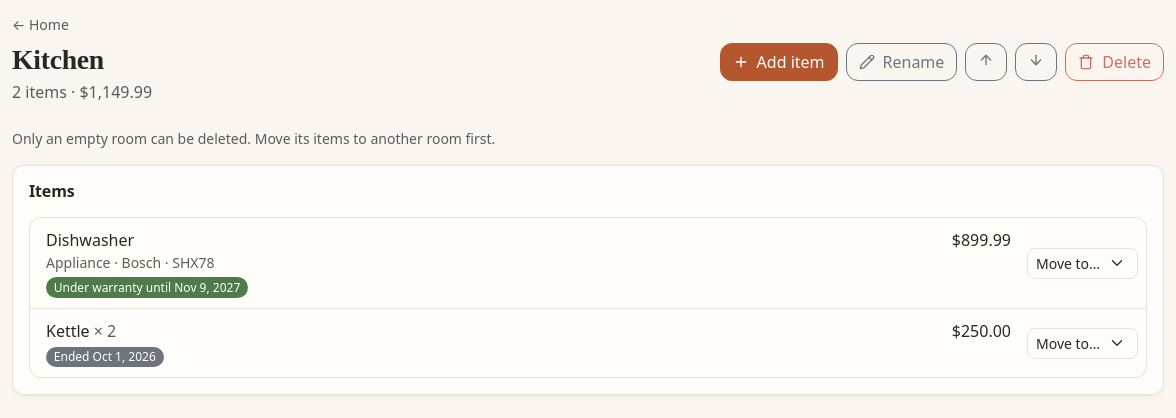
it: RoomPageComponent › for a user who can write › renames the room
Step 1. Click the button "Rename" → (901, 62), box [846,43,957,81]
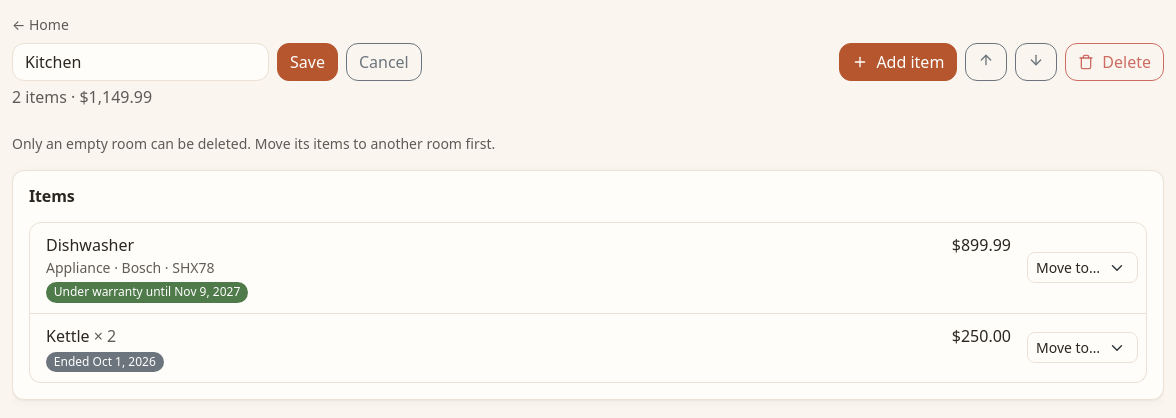
Expected: the field with id "room-name" holds "Kitchen"
Step 2. Replace the text in the field with id "room-name" with "Galley" → (140, 62), box [12,43,269,81]
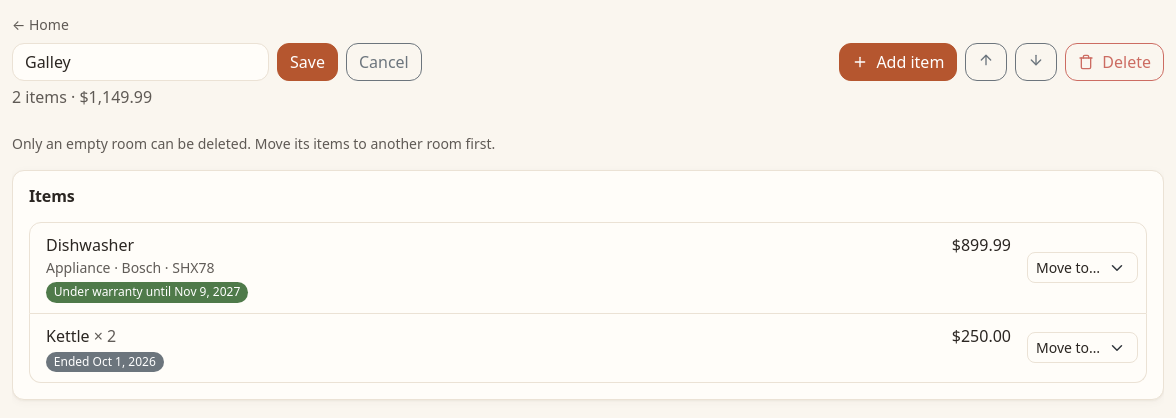
Step 3. Click the button "Save" → (307, 62), box [277,43,338,81]
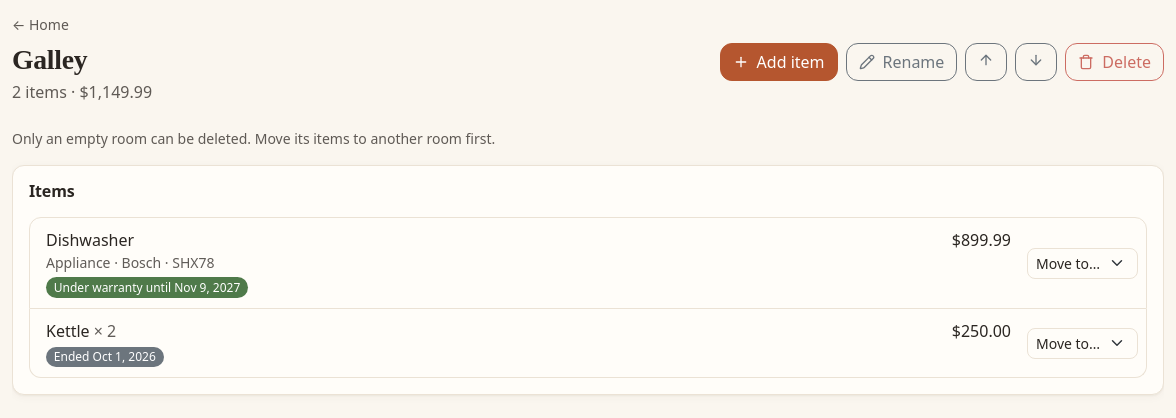
Expected: the heading "Galley" is shown, [12,44,87,75]
